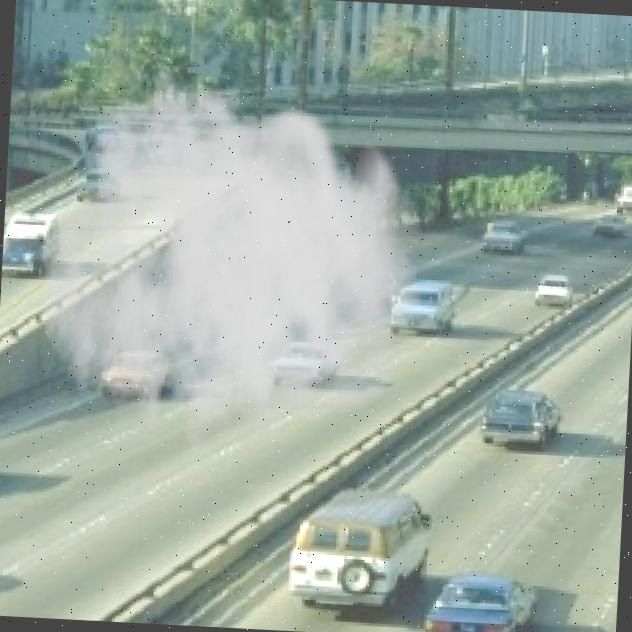smoke: (29, 60, 433, 485)
